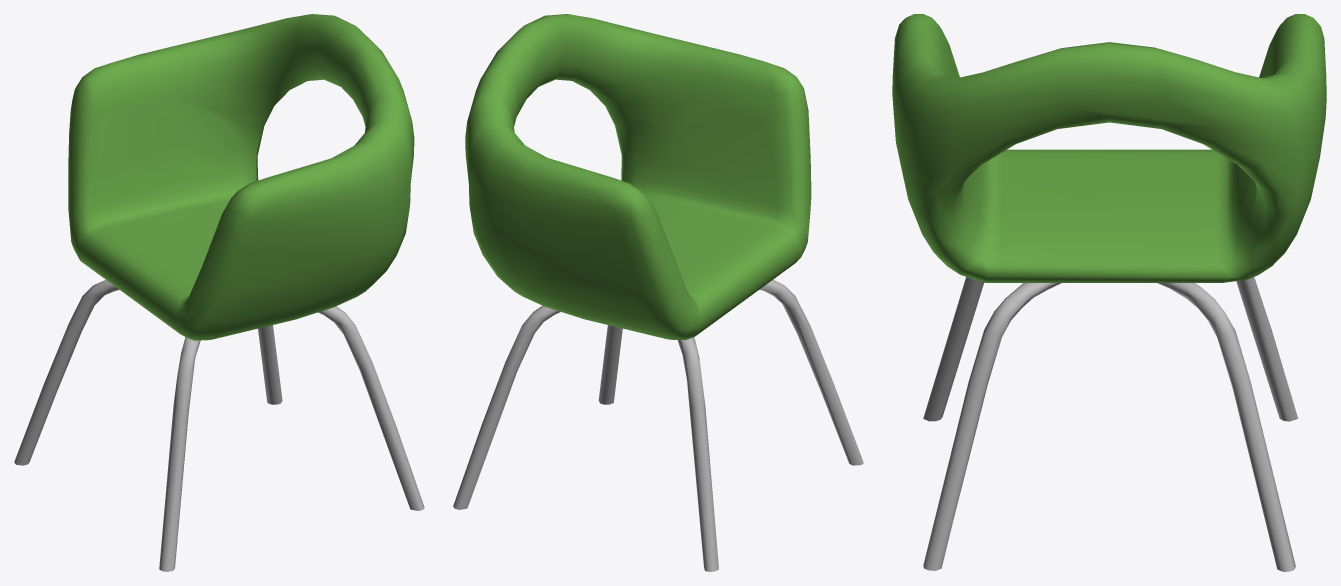
Rendered from chair_05_green.fbx.
The picture shows the model from 3 angles, left to right: view 1: azimuth 30°, elevation 25°; view 2: azimuth 150°, elevation 25°; view 3: azimuth 270°, elevation 25°; orthographic projection. The views are drawn at different scales.
Visible parts, largest first — view 1: chair_05_green; view 2: chair_05_green; view 3: chair_05_green.
Part boxes in pixels (x1,y1,x2,y2): chair_05_green: (14,14,424,571); chair_05_green: (453,14,863,571); chair_05_green: (892,14,1326,571).
Size of the model in its own units: 55.24 by 81.65 by 61.21.
Materials: 2 (2 with a texture image).
